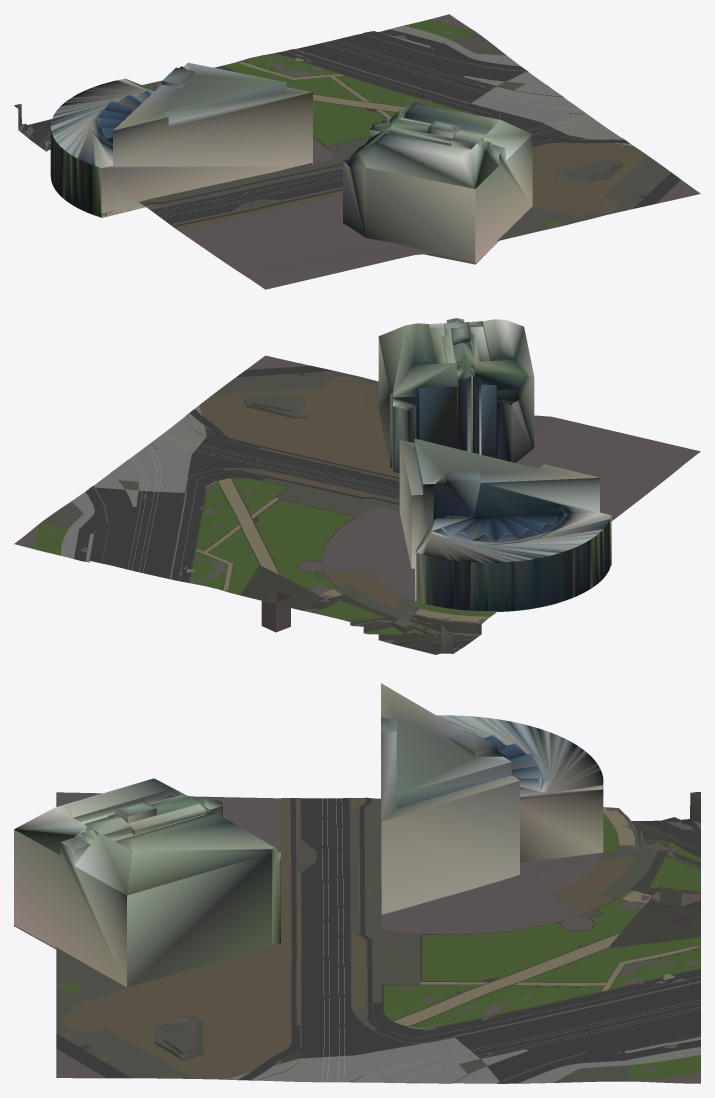
3 renders of one model, top to bottom at view 1: azimuth 30°, elevation 25°; view 2: azimuth 150°, elevation 25°; view 3: azimuth 270°, elevation 25°, orthographic. The views are drawn at different scales.
Parts seen in each view (by area): view 1: c_m08_m02; view 2: c_m08_m02; view 3: c_m08_m02.
Boxes of the visible parts, x1,y1,x2,y2 form: c_m08_m02: [14, 14, 700, 289]; c_m08_m02: [14, 318, 700, 654]; c_m08_m02: [14, 683, 700, 1083].
Bounding box in the file's own units: 142 × 37.26 × 136.
